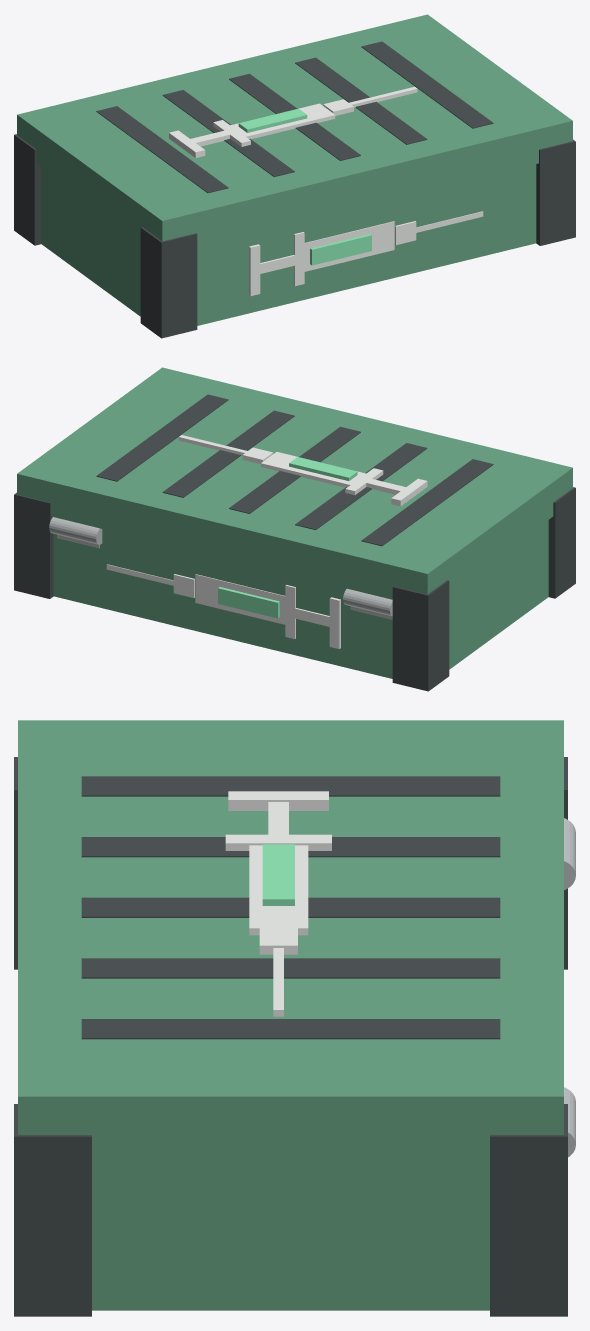
File: 12_antidote.glb
3 views of the same model, one above another, from view 1: azimuth 30°, elevation 25°; view 2: azimuth 150°, elevation 25°; view 3: azimuth 270°, elevation 25° (orthographic). The views are drawn at different scales.
Parts seen in each view (by area): view 1: Corner_0.5_-0.002, SyringeTop_FingerGrip.001, SyringeTop_PlungerGrip.001; view 2: Corner_0.5_-0.002, SyringeTop_FingerGrip, SyringeTop_PlungerGrip.001; view 3: Corner_0.5_-0.002, SyringeTop_PlungerGrip.001.
Part boxes in pixels (box(x1,y1,x2,y2)): Corner_0.5_-0.002: box(14, 14, 575, 338); SyringeTop_FingerGrip.001: box(249, 211, 483, 296); SyringeTop_PlungerGrip.001: box(169, 86, 417, 157); Corner_0.5_-0.002: box(14, 367, 575, 691); SyringeTop_FingerGrip: box(106, 564, 340, 648); SyringeTop_PlungerGrip.001: box(178, 435, 427, 506); Corner_0.5_-0.002: box(14, 720, 575, 1316); SyringeTop_PlungerGrip.001: box(225, 791, 331, 1016).
Bounding box in the file's own units: 1.1 × 0.3116 × 0.6848.
